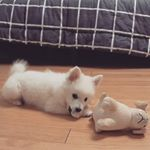puppy: (1, 55, 105, 120)
